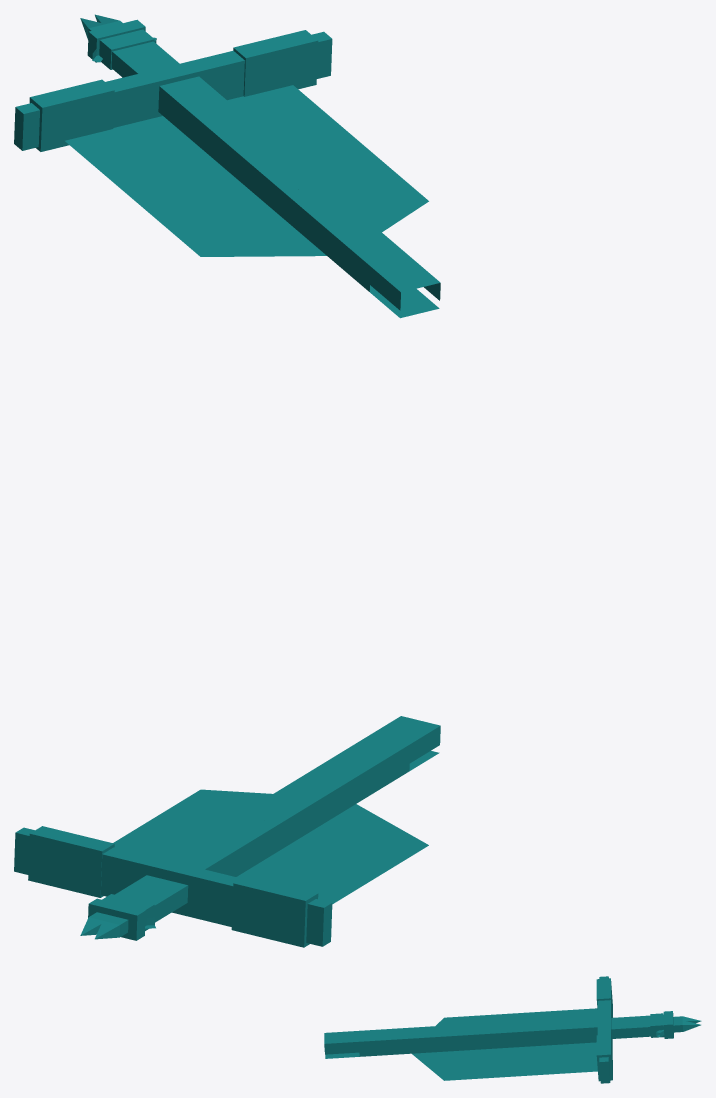
The model's file is flag_bearer.glb.
3 renders of one model, top to bottom at view 1: azimuth 30°, elevation 25°; view 2: azimuth 150°, elevation 25°; view 3: azimuth 270°, elevation 25°, orthographic. The views are drawn at different scales.
Visible parts, largest first — view 1: main__Tool_R, off__Tool_L; view 2: main__Tool_R, off__Tool_L; view 3: main__Tool_R, off__Tool_L.
Boxes of the visible parts, bbox=[...] form: main__Tool_R: bbox=[30, 14, 440, 314]; off__Tool_L: bbox=[14, 18, 414, 318]; main__Tool_R: bbox=[14, 716, 426, 943]; off__Tool_L: bbox=[43, 722, 440, 947]; main__Tool_R: bbox=[324, 982, 700, 1083]; off__Tool_L: bbox=[324, 976, 701, 1063].
Bounding box in the file's own units: 1.33 × 0.3898 × 4.52.
1 material, 1 textured.
